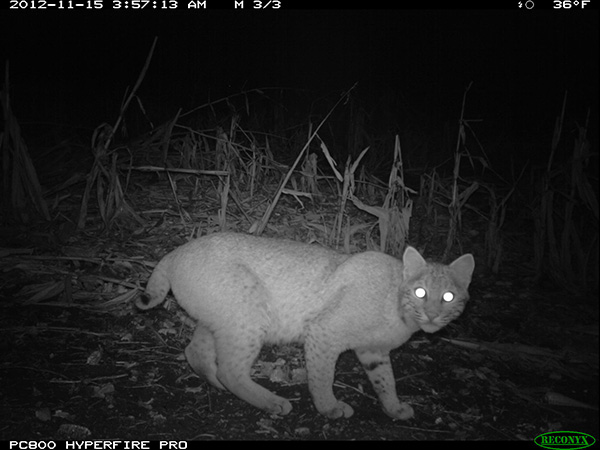bobcat: (139, 218, 480, 440)
